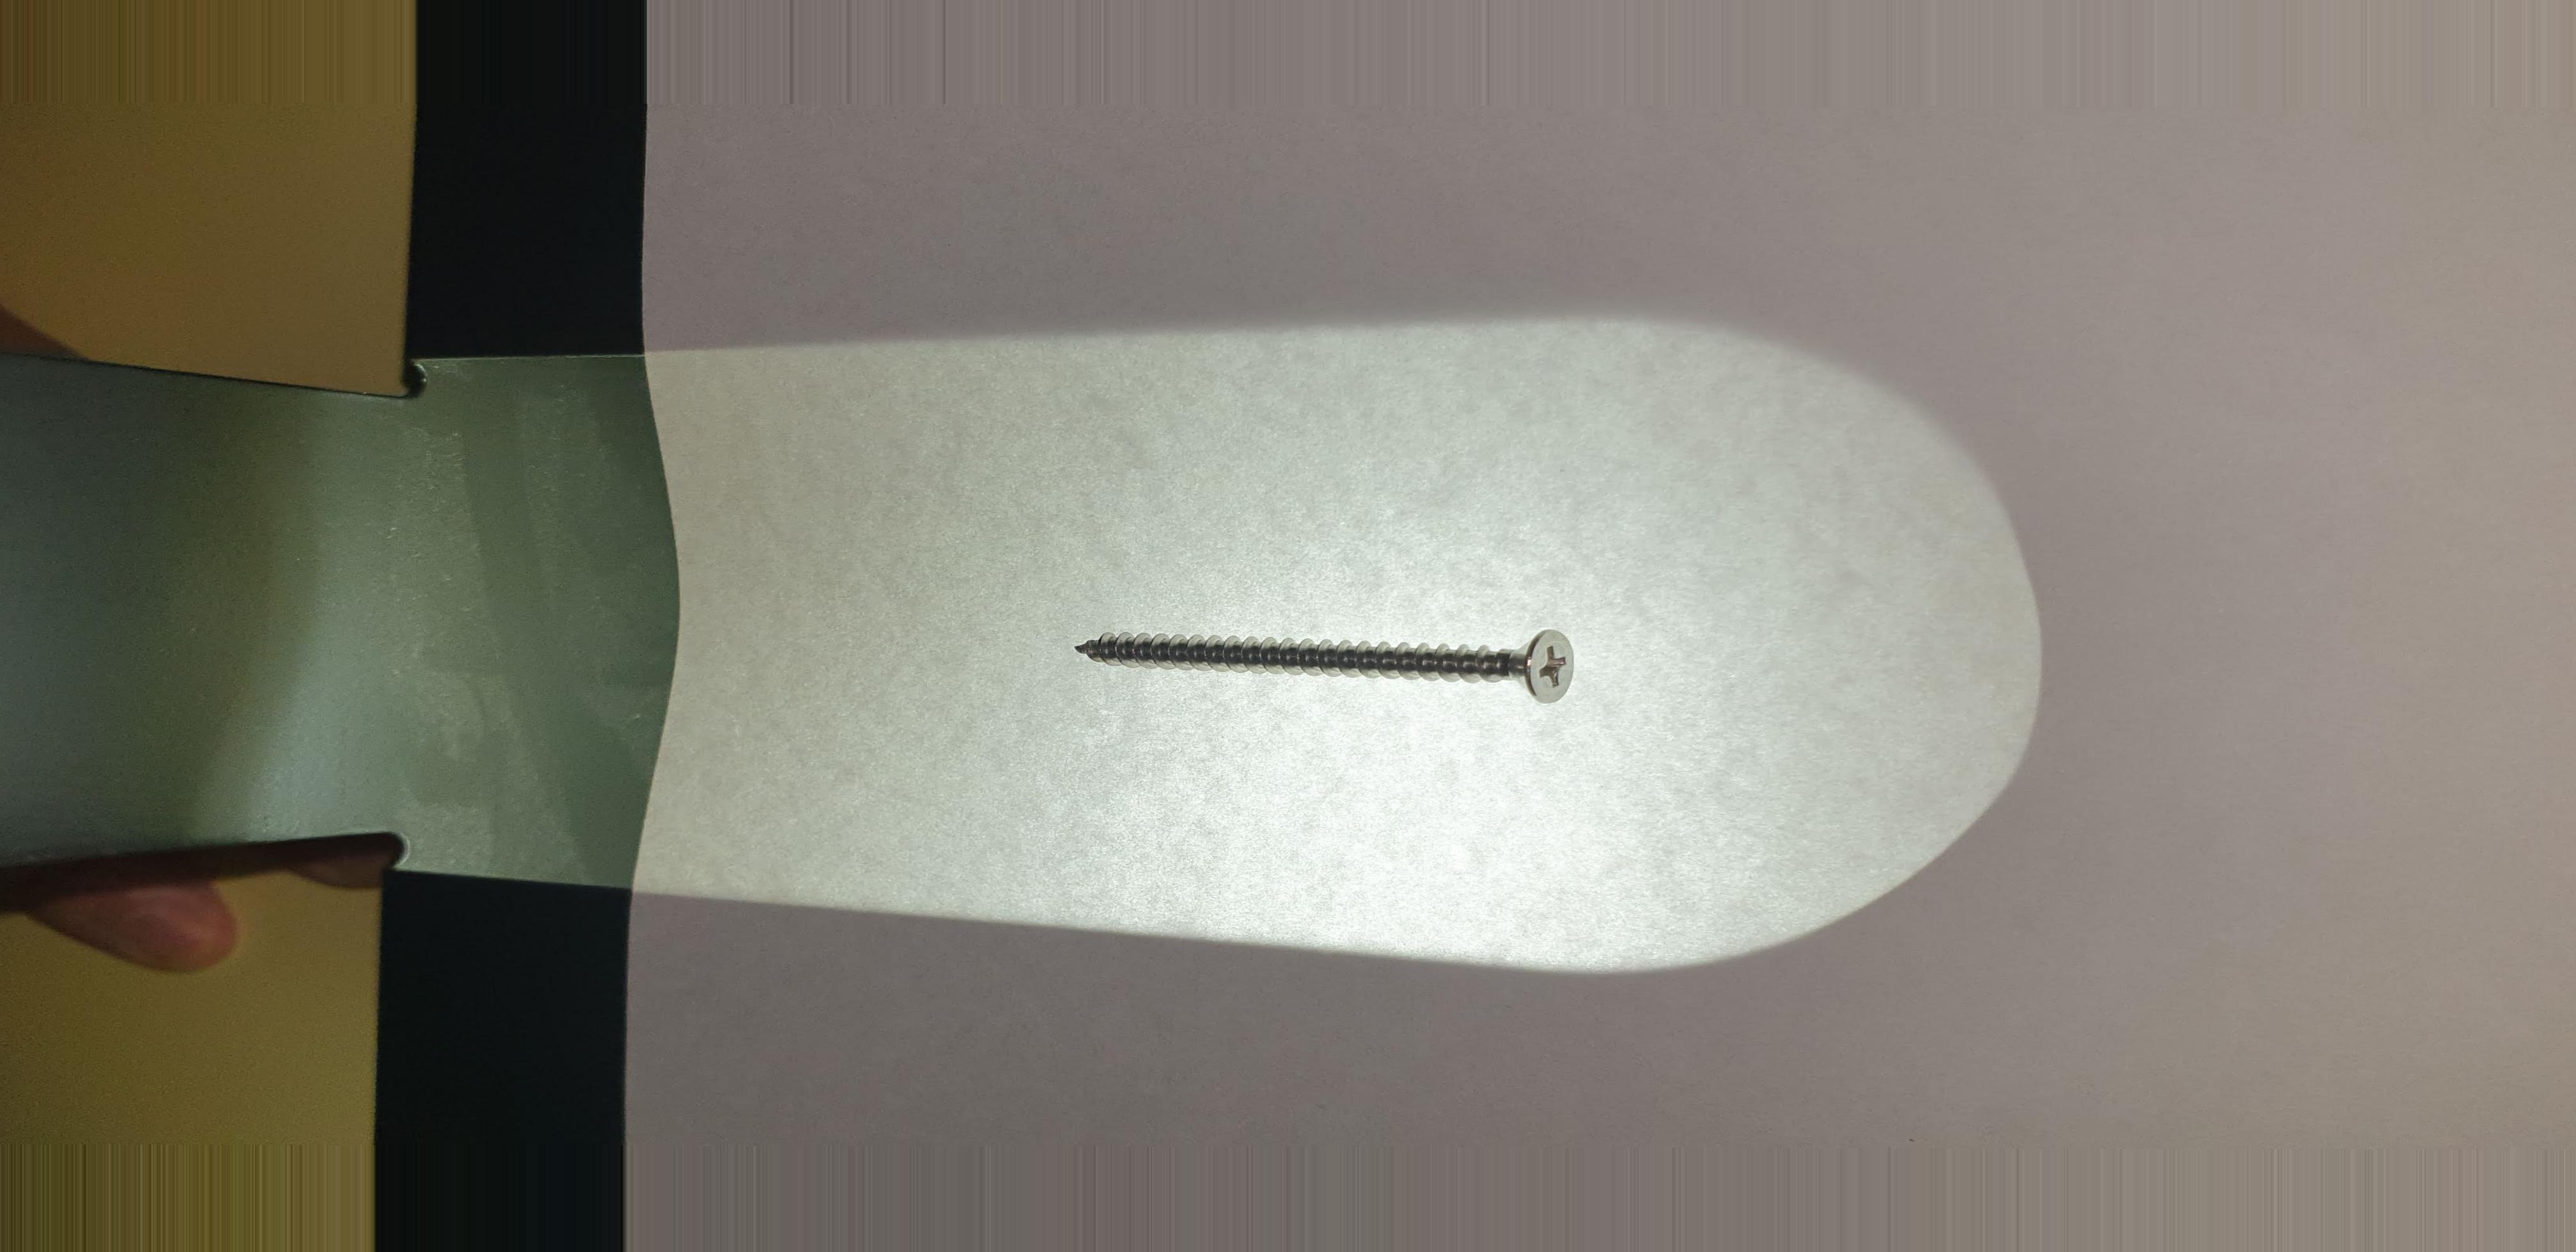fastener: (1028, 596, 1641, 730)
